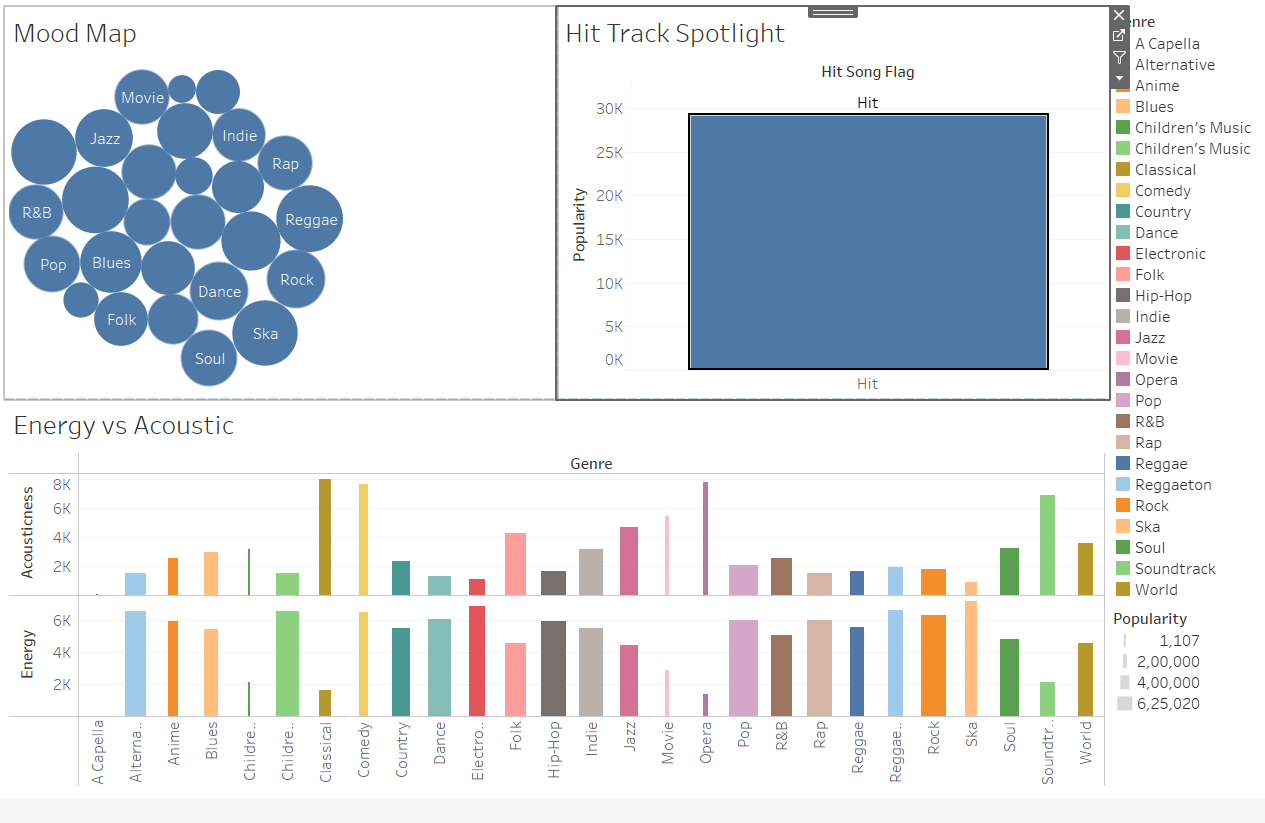

This screenshot's page, from the dashboard's own definition file:
{"tool":"tableau","page":{"name":"Genre Mood & Hit Track Analysis","canvas":[1280,800],"ordinal":2},"visuals":[{"type":"worksheet","title":"Mood Map","mark":"Circle","box":[8,8,552,392]},{"type":"worksheet","title":"Hit Track Spotlight","mark":"Automatic","rows":["popularity"],"cols":["Calculation_1491254432540262400"],"box":[560,8,552,392]},{"type":"legend","title":"Energy vs Acoustic","param":"[federated.0159a5j1lcpm2c19rfjve0wov76w].[none:genre:nk]","box":[1112,8,160,597]},{"type":"worksheet","title":"Energy vs Acoustic","mark":"Automatic","rows":["acousticness","energy"],"cols":["genre"],"box":[8,400,1104,392]},{"type":"legend","title":"Energy vs Acoustic","param":"[federated.0159a5j1lcpm2c19rfjve0wov76w].[sum:popularity:qk]","box":[1112,605,160,114]}]}

Visuals, with their boxes on the page's 1280x800 design canvas (x1, y1, x2, y2). These are canvas units, not pixel positions in the 1265x823 screenshot, which may show the page scaled, cropped or inside an application window:
"Mood Map" worksheet (Circle marks): [8, 8, 560, 400]
"Hit Track Spotlight" worksheet: [560, 8, 1112, 400]
"Energy vs Acoustic" legend: [1112, 8, 1272, 605]
"Energy vs Acoustic" worksheet: [8, 400, 1112, 792]
"Energy vs Acoustic" legend: [1112, 605, 1272, 719]
